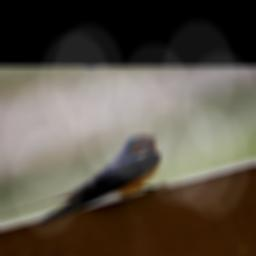Swallow: (0, 128, 184, 234)
